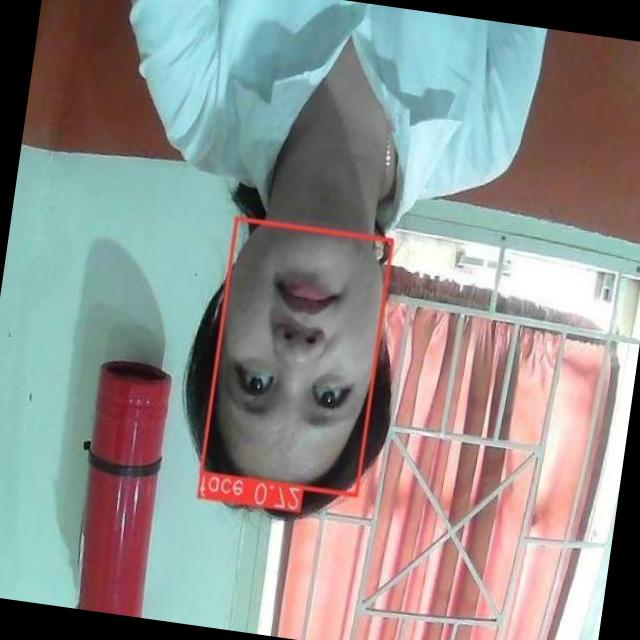bareface: (154, 166, 421, 536)
